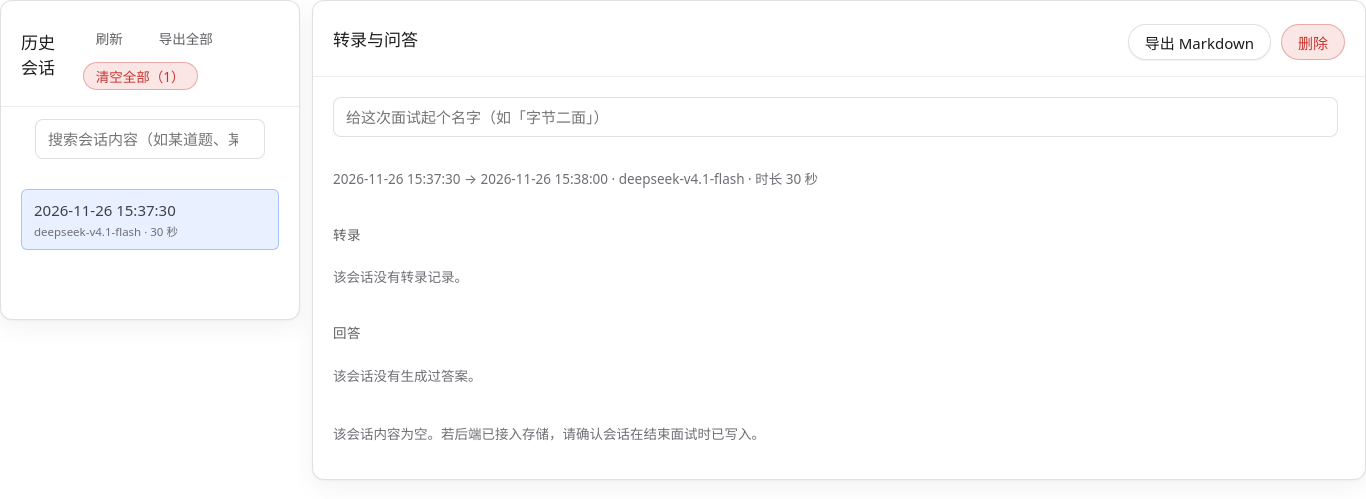
Test case: SessionReview —— 会话备注 › 保存失败时显示原因，不静默回滚
This screenshot has width=1366, height=499.
Type "字节二面" into the field named "会话备注" at (836, 117), box [333,97,1338,137]
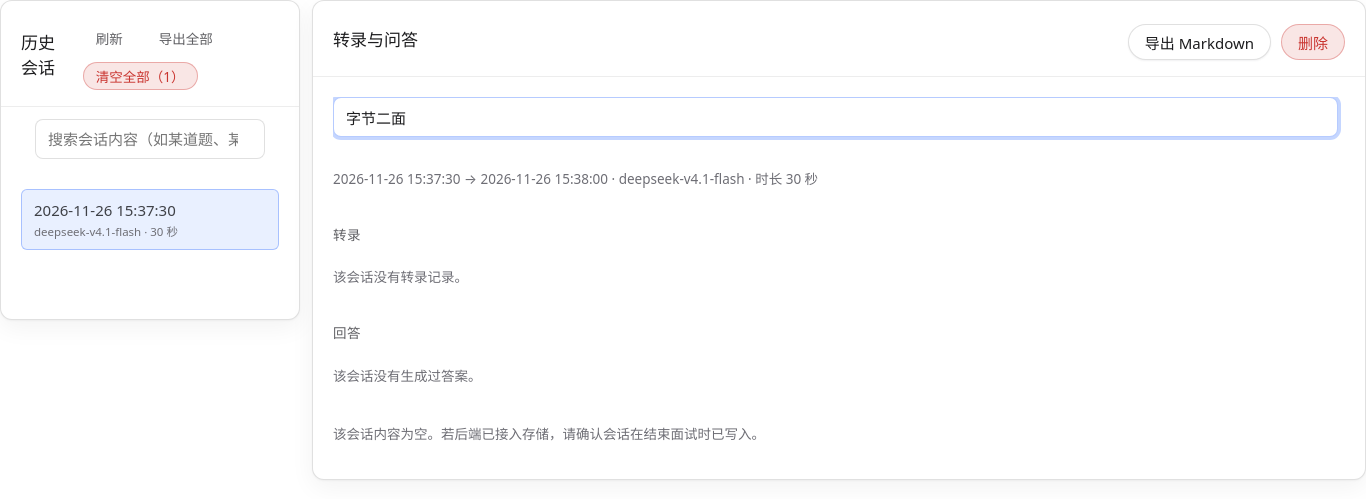
Press Tab
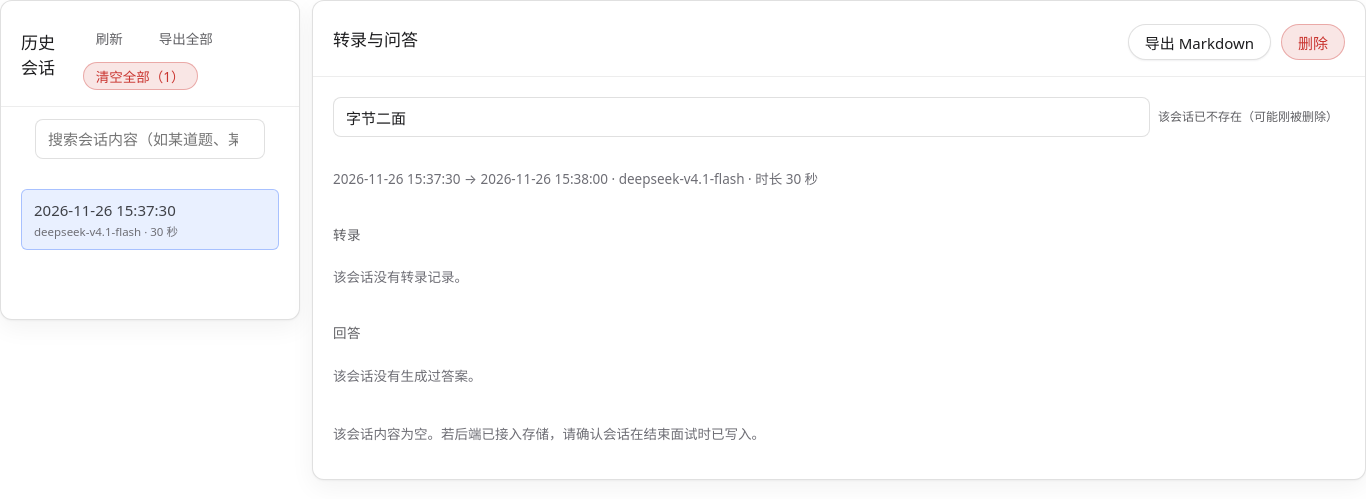
Now the message shows "该会话已不存在", box [1158,108,1338,125]
